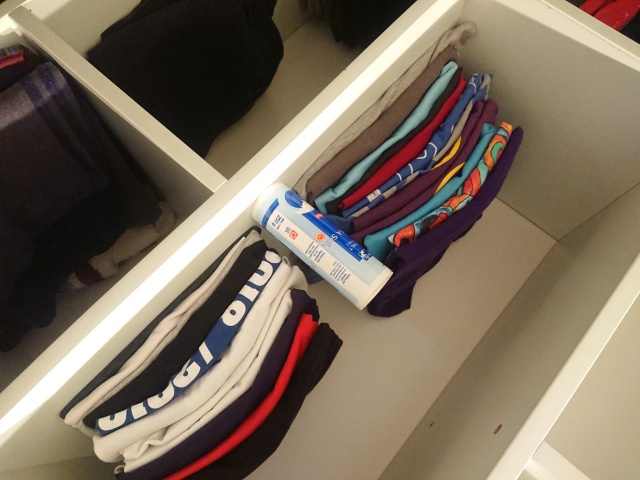Solana Pag Fine Sea Salt 250g: (248, 179, 395, 313)
